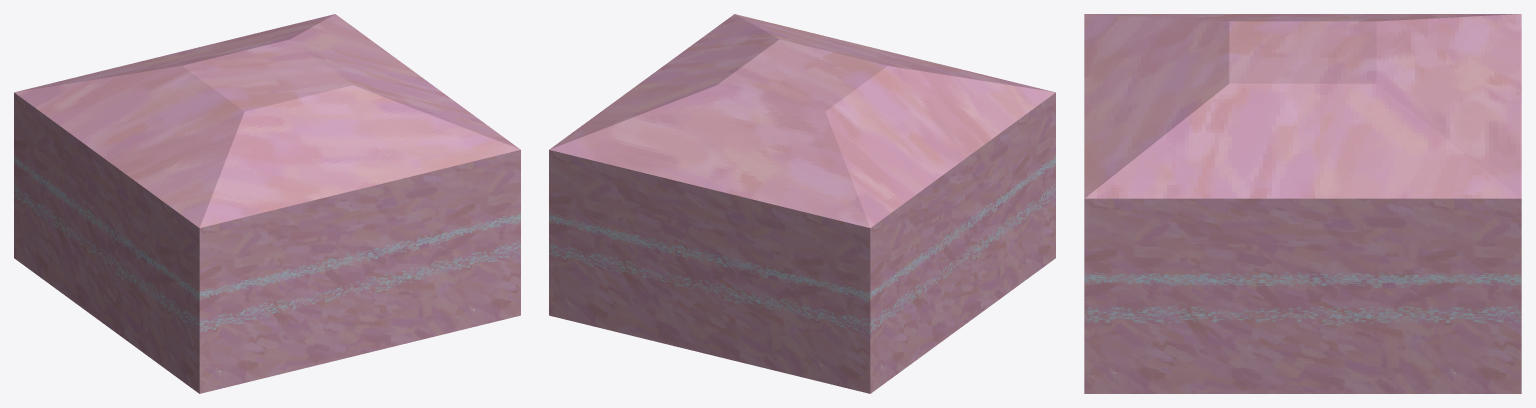
The model's file is top.glb.
3 views of the same model, side by side, from view 1: azimuth 30°, elevation 25°; view 2: azimuth 150°, elevation 25°; view 3: azimuth 270°, elevation 25° (orthographic). The views are drawn at different scales.
Visible parts, largest first — view 1: box_top; view 2: box_top; view 3: box_top.
Part boxes in pixels (left/top/right/bottom): box_top: left=14, top=14, right=520, bottom=393; box_top: left=549, top=14, right=1055, bottom=393; box_top: left=1084, top=14, right=1521, bottom=393.
Bounding box in the file's own units: 0.1272 × 0.08 × 0.1272.
1 material, 1 textured.
